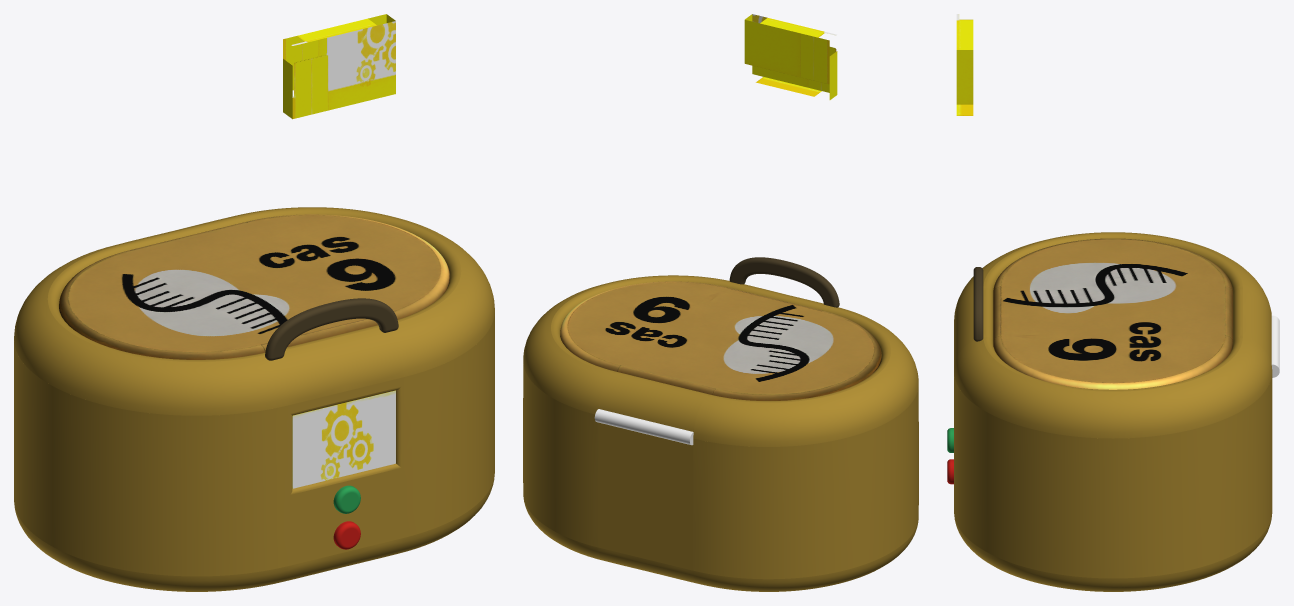
Rendered from 源文件勿动.fbx.
The picture shows the model from 3 angles, left to right: view 1: azimuth 30°, elevation 25°; view 2: azimuth 150°, elevation 25°; view 3: azimuth 270°, elevation 25°; orthographic projection. The views are drawn at different scales.
Visible parts, largest first — view 1: 物件_280, 物件_288, 物件_287, 物件_283.001, 物件_283, 物件_285, 物件_281, 物件_282; view 2: 物件_280, 物件_288, 物件_287, 物件_283.001, 物件_285, 物件_286; view 3: 物件_280, 物件_288, 物件_287, 物件_283.001, 物件_285, 物件_286.
Part boxes in pixels (x1=…): 物件_280: x1=14, y1=313, x2=494, y2=591; 物件_288: x1=59, y1=214, x2=449, y2=359; 物件_287: x1=14, y1=207, x2=494, y2=415; 物件_283.001: x1=283, y1=14, x2=395, y2=119; 物件_283: x1=292, y1=390, x2=395, y2=488; 物件_285: x1=265, y1=298, x2=398, y2=360; 物件_281: x1=333, y1=521, x2=360, y2=549; 物件_282: x1=333, y1=485, x2=360, y2=513; 物件_280: x1=523, y1=364, x2=918, y2=591; 物件_288: x1=560, y1=281, x2=881, y2=400; 物件_287: x1=523, y1=275, x2=918, y2=446; 物件_283.001: x1=744, y1=14, x2=837, y2=99; 物件_285: x1=729, y1=257, x2=839, y2=307; 物件_286: x1=594, y1=409, x2=693, y2=445; 物件_280: x1=954, y1=373, x2=1272, y2=591; 物件_288: x1=993, y1=238, x2=1232, y2=389; 物件_287: x1=954, y1=232, x2=1272, y2=438; 物件_283.001: x1=956, y1=14, x2=973, y2=115; 物件_285: x1=973, y1=267, x2=983, y2=341; 物件_286: x1=1271, y1=315, x2=1279, y2=377.
Size of the model in its own units: 21.16 by 25.36 by 16.2.
